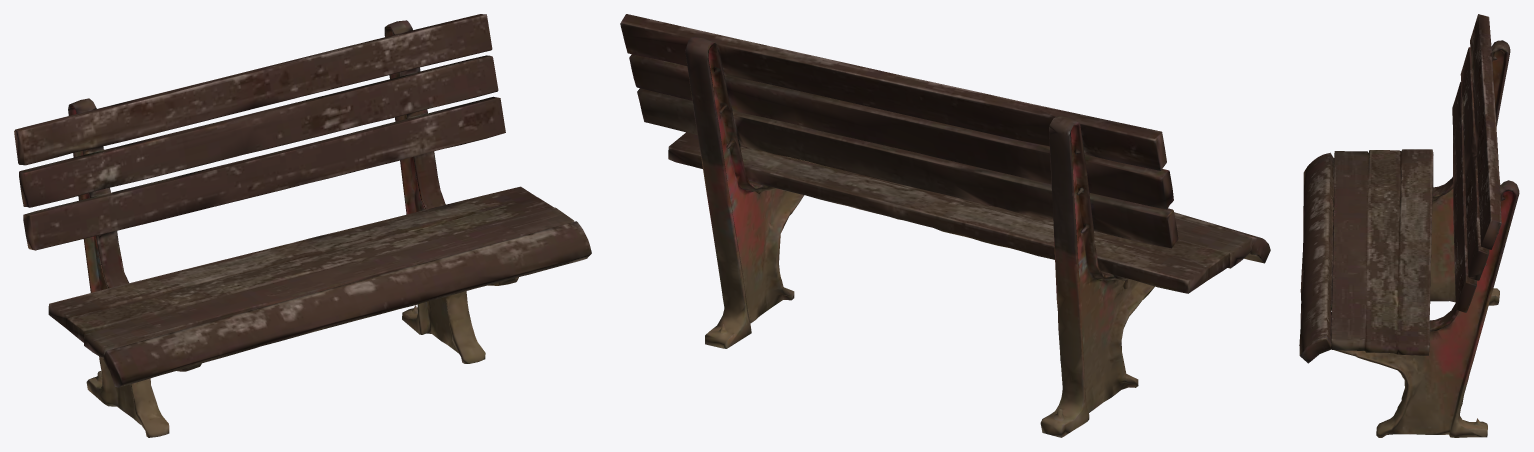
The model's file is bench.glb.
3 renders of one model, left to right at view 1: azimuth 30°, elevation 25°; view 2: azimuth 150°, elevation 25°; view 3: azimuth 270°, elevation 25°, orthographic. The views are drawn at different scales.
Parts seen in each view (by area): view 1: xfcsab1sc_LOD2_TIER2; view 2: xfcsab1sc_LOD2_TIER2; view 3: xfcsab1sc_LOD2_TIER2.
Boxes of the visible parts, bbox=[...] form: xfcsab1sc_LOD2_TIER2: bbox=[14, 14, 591, 437]; xfcsab1sc_LOD2_TIER2: bbox=[620, 14, 1270, 437]; xfcsab1sc_LOD2_TIER2: bbox=[1299, 14, 1519, 437].
Size of the model in its own units: 1.25 by 0.7292 by 0.5746.
Materials: 1 (1 with a texture image).
